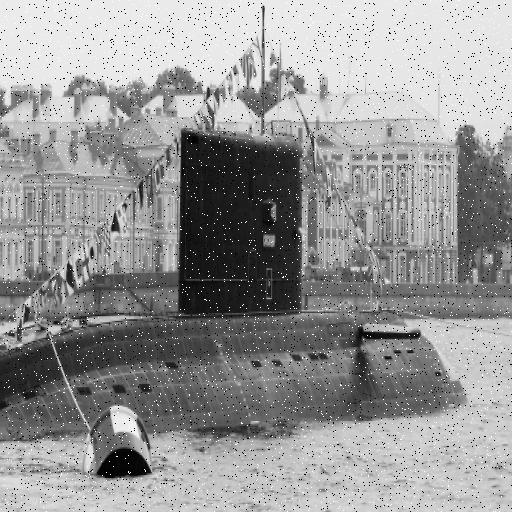submarine: (1, 1, 469, 442)
